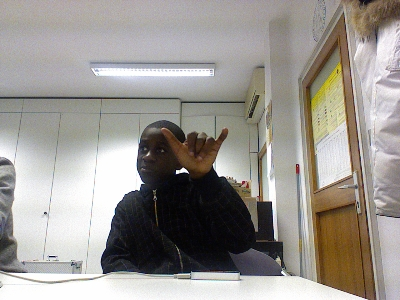六六六: (159, 123, 228, 175)
